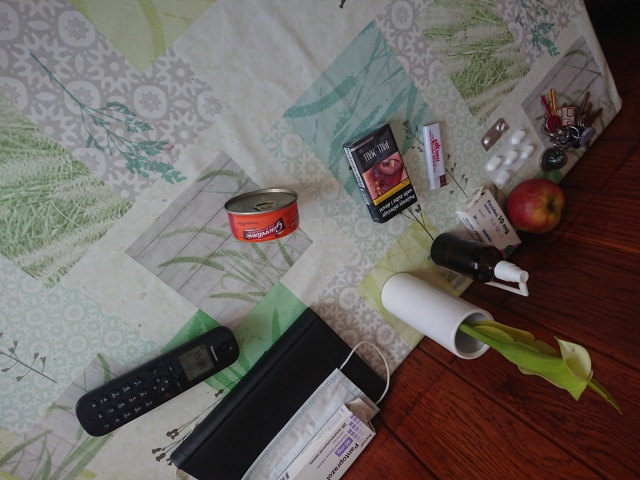Gavrilovic Pork Liver Pate 100g: (220, 185, 303, 245)
